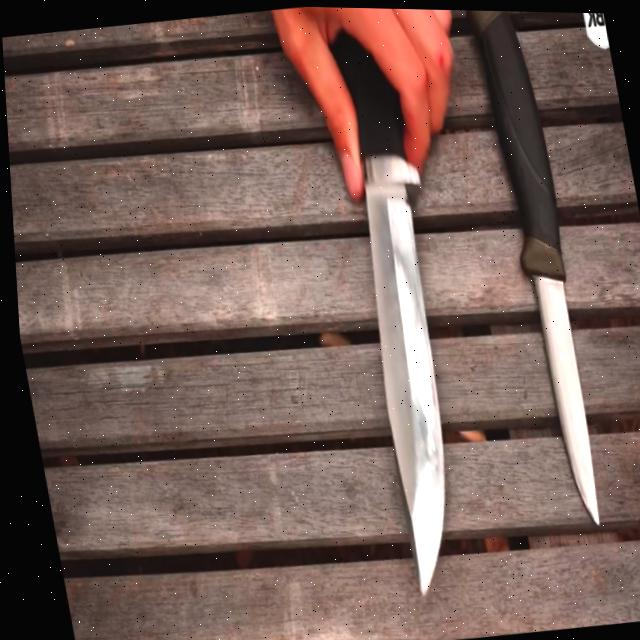knife: (303, 36, 487, 604), (463, 8, 610, 524)
